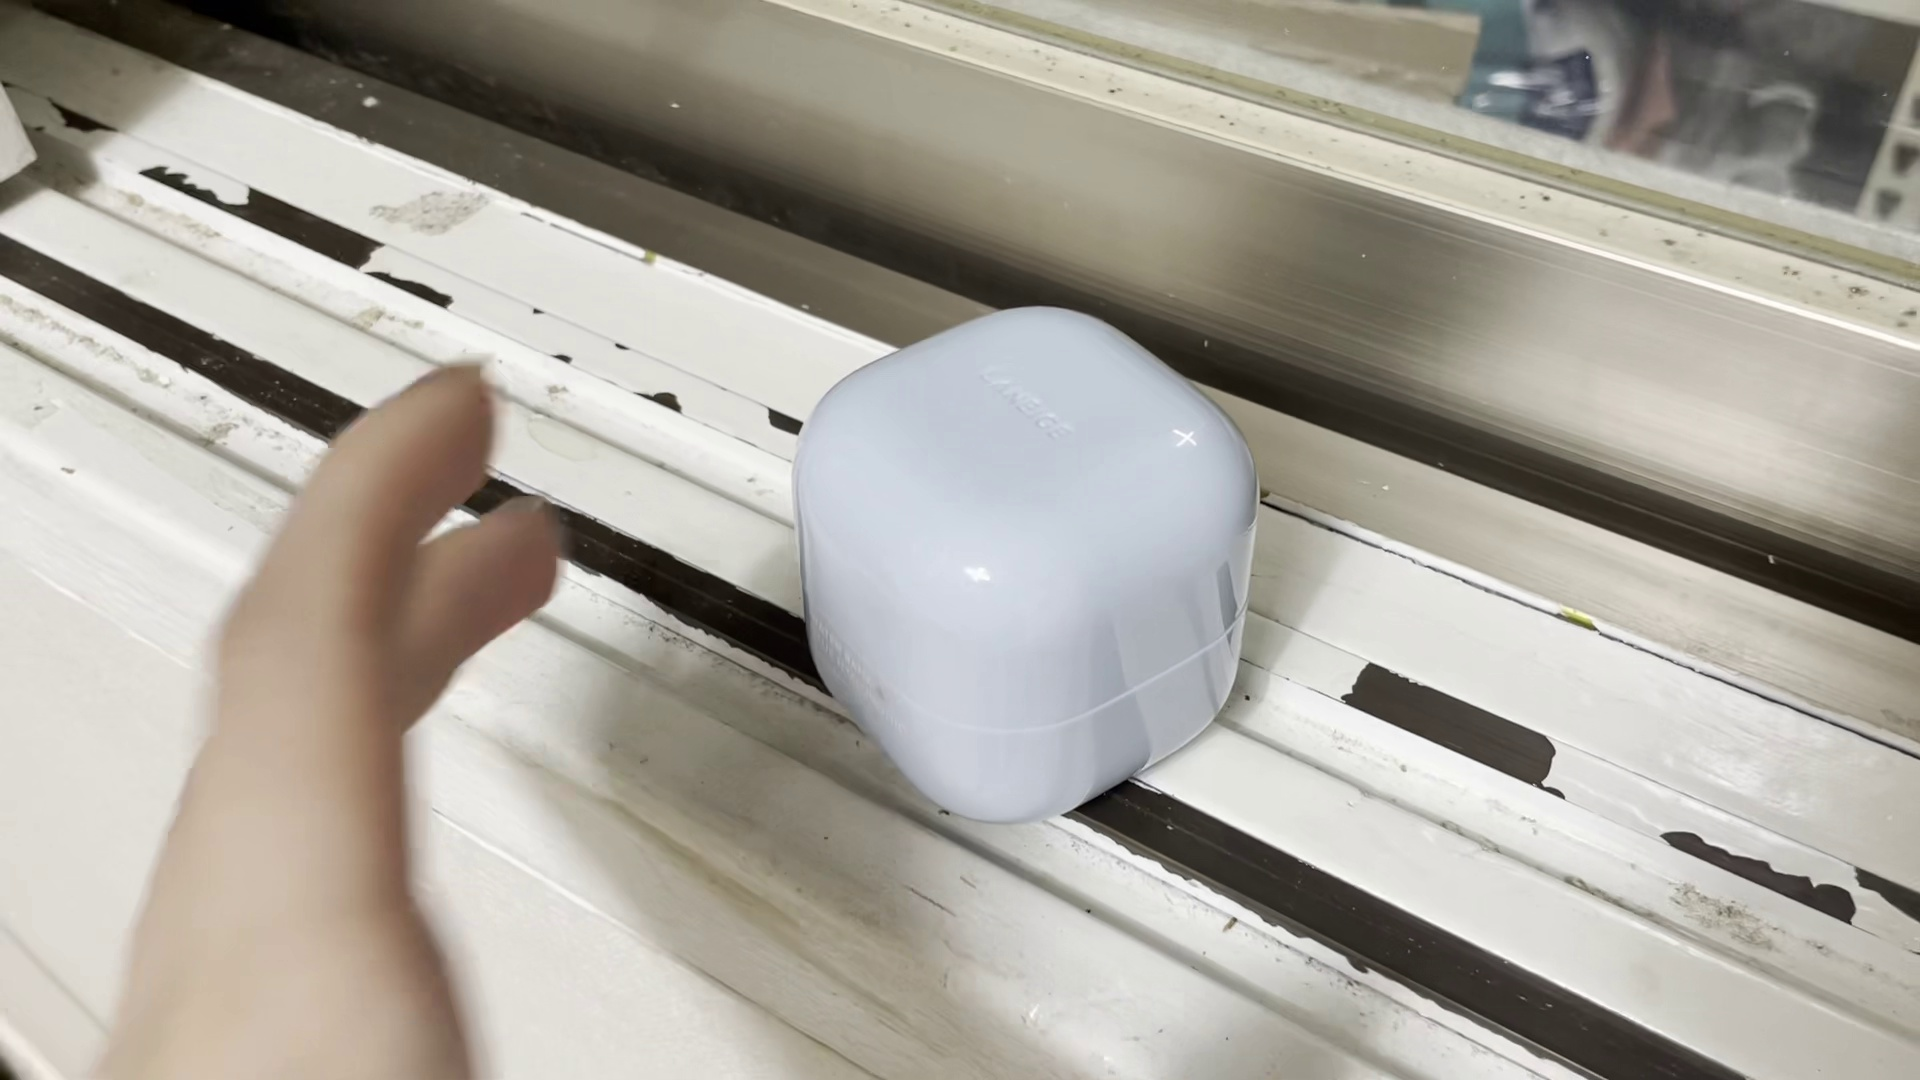cream: (791, 303, 1263, 823)
